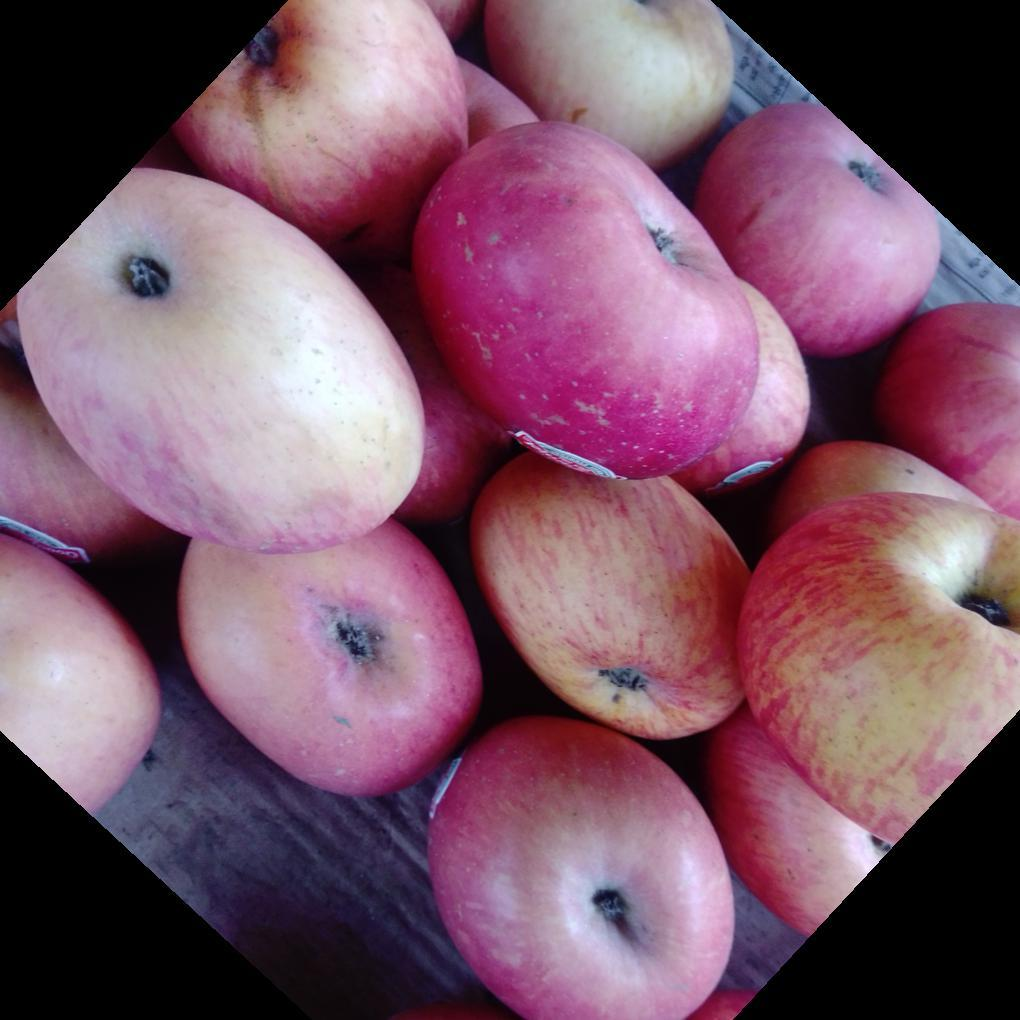FreshGuava: (4, 0, 1020, 1020)
